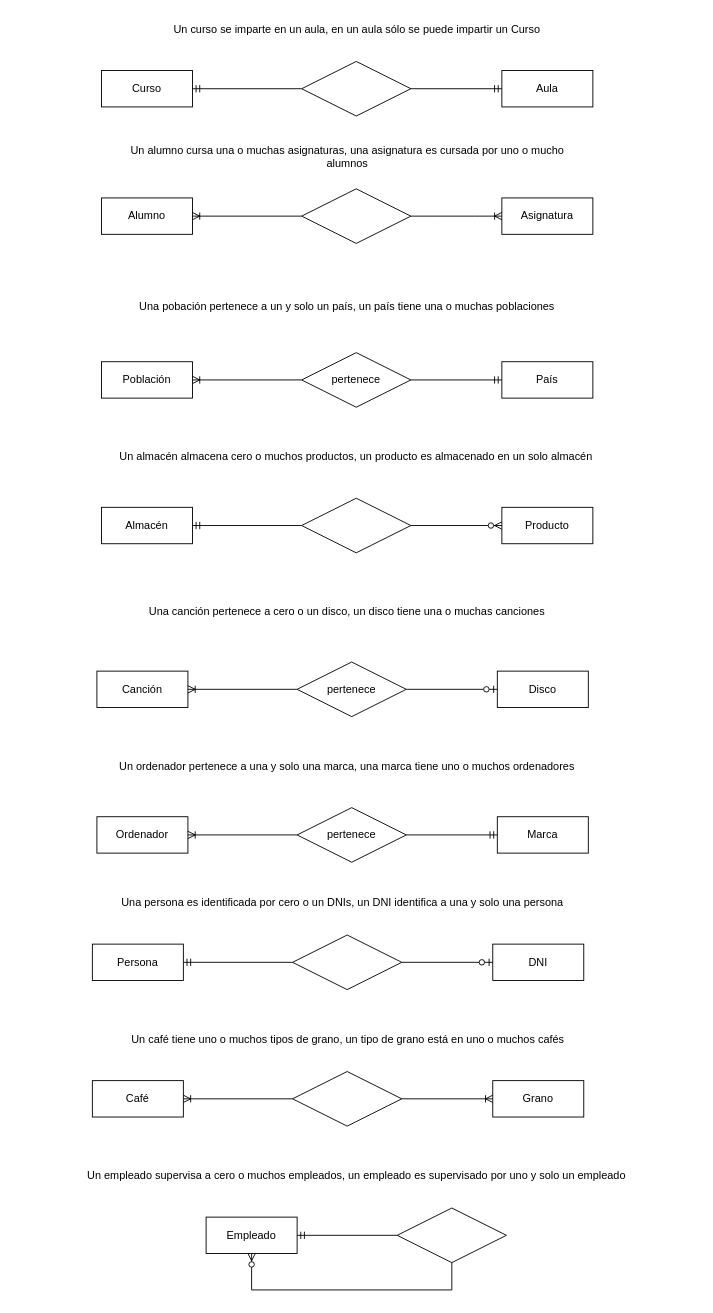
The diagram is 713 pixels wide and 1313 high, and some of its shapes have lost their labels. The centre of each missing label's shape, as x and y in pixels:
"almacena" belongs at point 356,525.
"cursa" belongs at point 356,215.
"es indentificada" belongs at point 347,962.
"se imparte en" belongs at point 356,88.
"supervisa" belongs at point 451,1235.
"tiene" belongs at point 347,1098.
